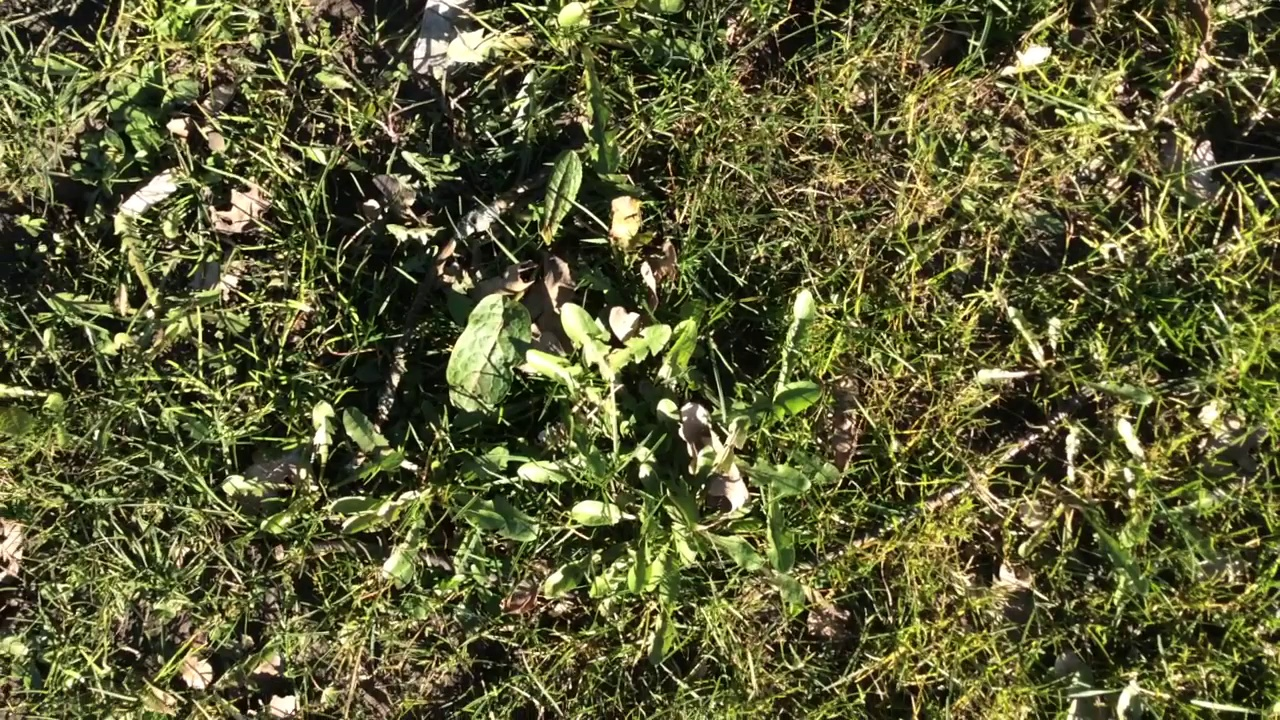rumex: (445, 298, 531, 416), (547, 152, 585, 244)
